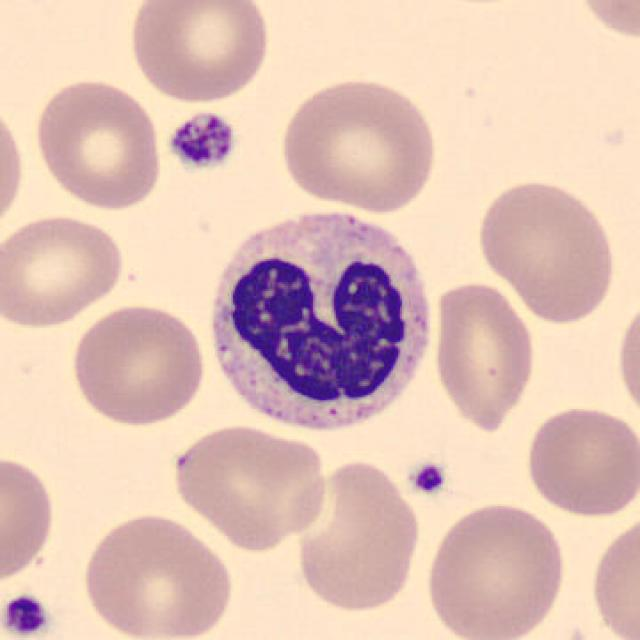Neutrophil: (199, 199, 439, 443)
Platelets: (164, 109, 240, 173), (0, 590, 53, 640), (407, 458, 450, 499)
RBC: (276, 73, 442, 214), (473, 175, 620, 326), (167, 419, 331, 552), (290, 455, 425, 615), (421, 497, 569, 640), (76, 508, 236, 640), (31, 74, 166, 212), (66, 300, 210, 428), (428, 277, 538, 434), (124, 0, 274, 106), (0, 210, 128, 331), (521, 402, 638, 520), (0, 448, 59, 587), (587, 508, 638, 640), (0, 96, 28, 236), (611, 293, 640, 425), (569, 0, 640, 42)
